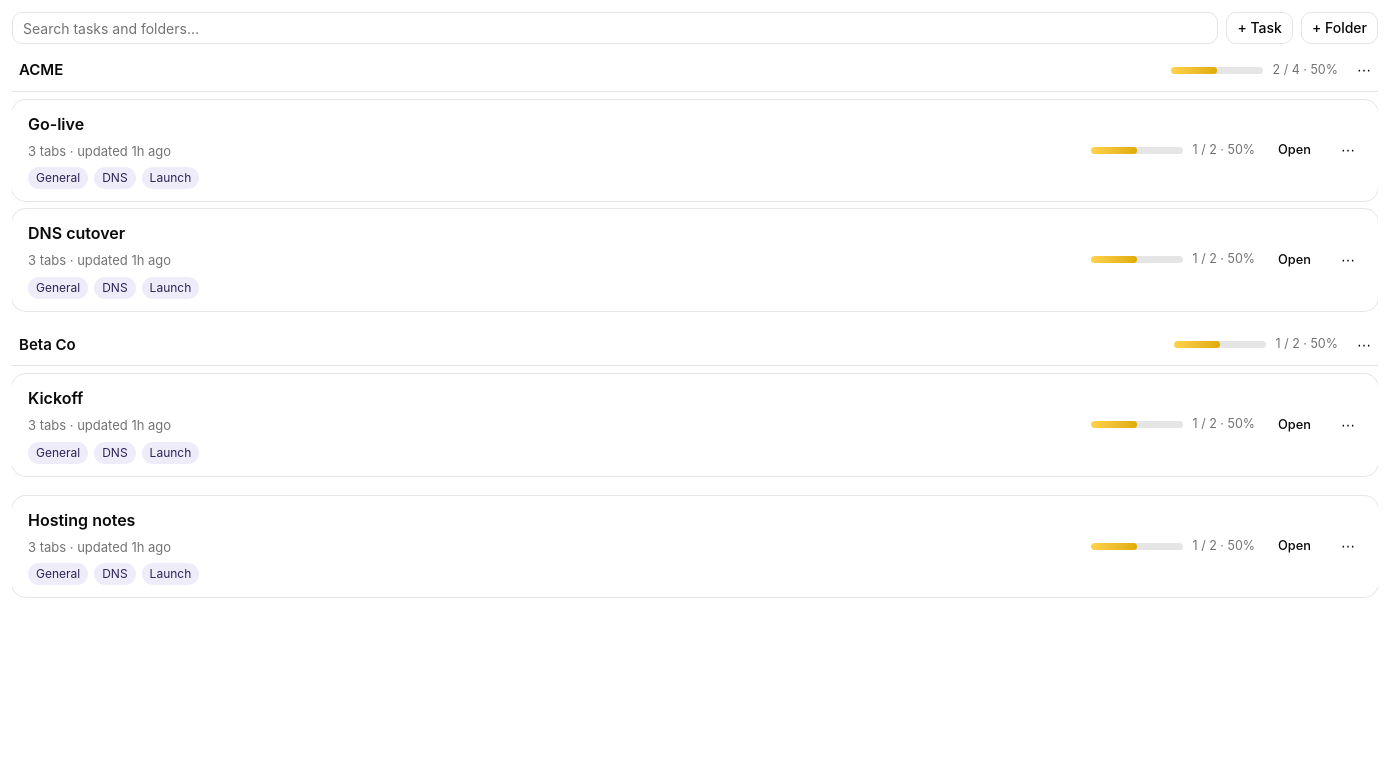
a task’s options › leaves the name and sends nothing when the rename is abandoned with Escape
Click the button named "Task options" at (1348, 150), box [1334,136,1362,164]
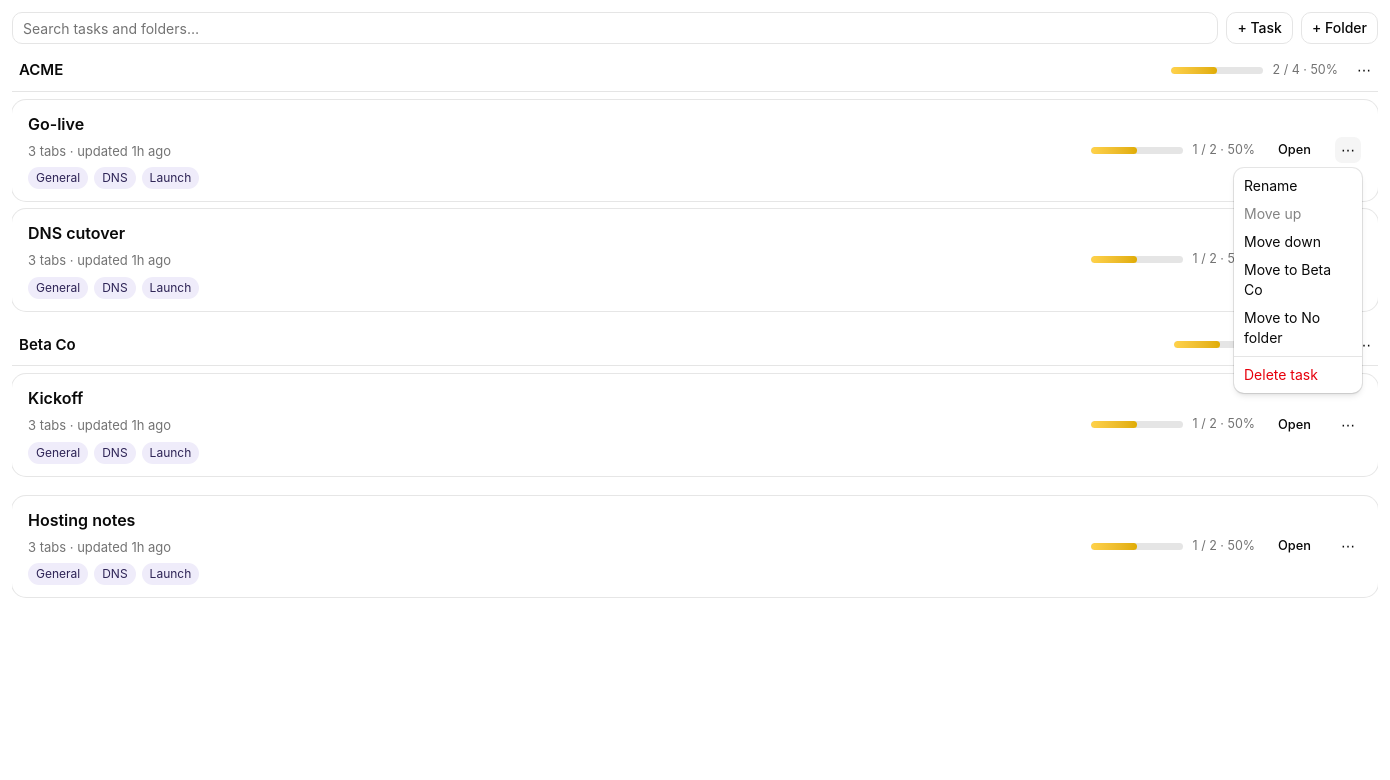
Click the menu item "Rename" at (1271, 186), box [1244,177,1298,194]
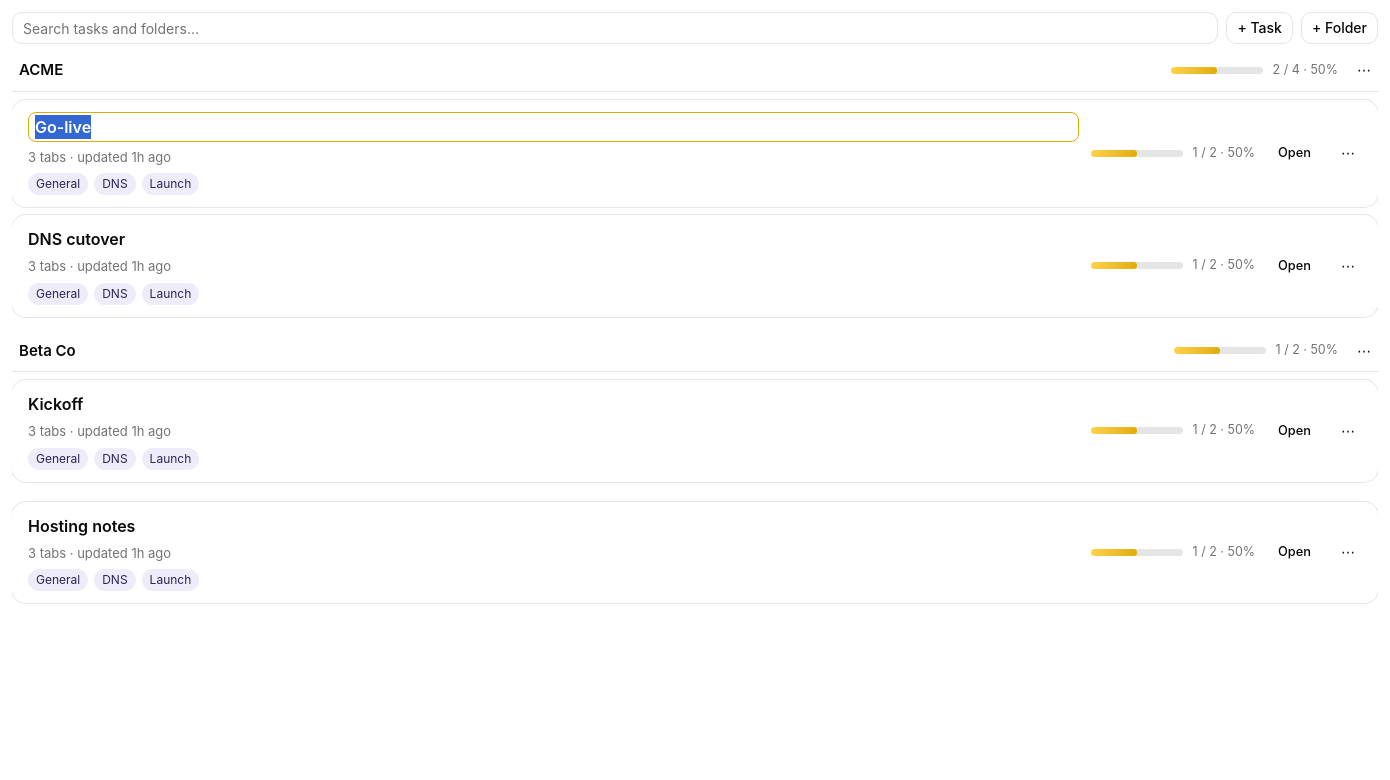
Type "x" into the field named "Task name" at (553, 126), box [28,112,1079,142]
Then press Escape
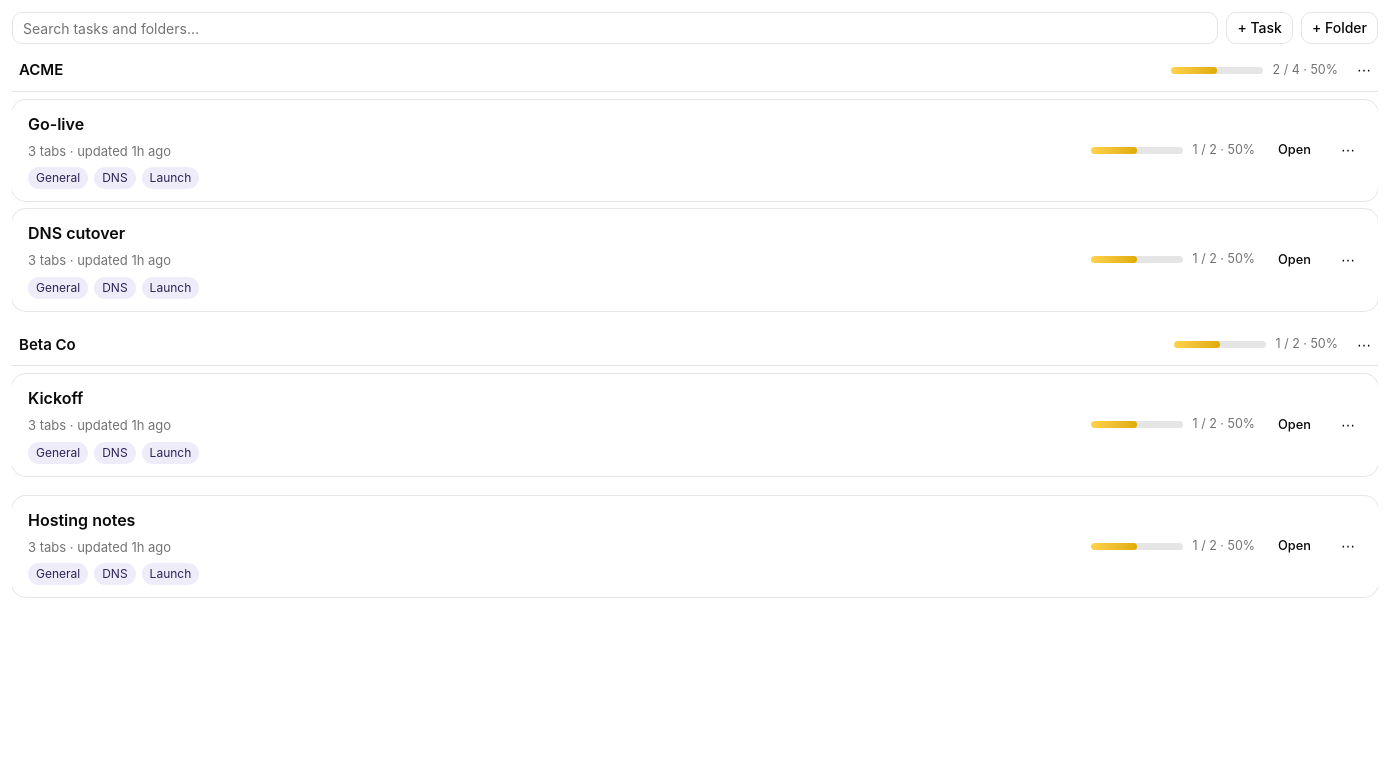
Expected: the link "Go-live" is shown, [28,114,84,134]
